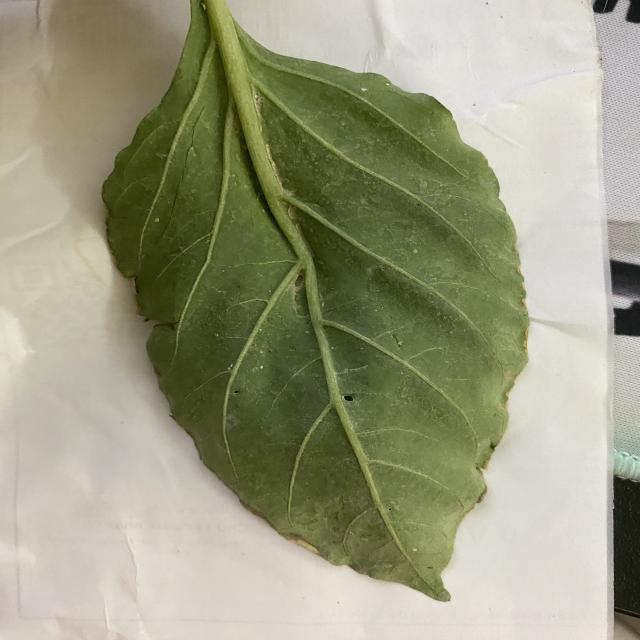Leaf: (99, 25, 533, 602)
